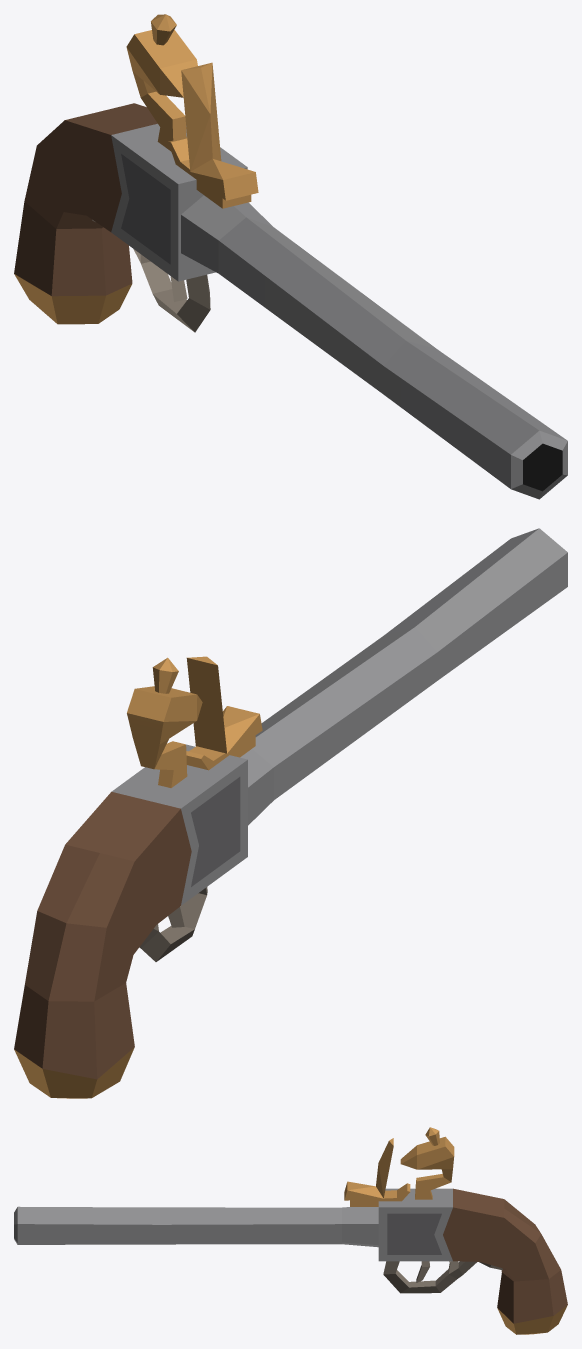
Rendered from SM_Wep_Pistol_01.glb.
The picture shows the model from 3 angles, top to bottom: view 1: azimuth 30°, elevation 25°; view 2: azimuth 150°, elevation 25°; view 3: azimuth 270°, elevation 25°; orthographic projection. The views are drawn at different scales.
Parts seen in each view (by area): view 1: SM_Wep_Pistol_01; view 2: SM_Wep_Pistol_01; view 3: SM_Wep_Pistol_01.
Part boxes in pixels (left/top/right/bottom): SM_Wep_Pistol_01: left=14, top=14, right=567, bottom=499; SM_Wep_Pistol_01: left=14, top=528, right=567, bottom=1098; SM_Wep_Pistol_01: left=14, top=1127, right=567, bottom=1334.
Size of the model in its own units: 0.000499 by 0.00215 by 0.00521.
1 material, 1 textured.
